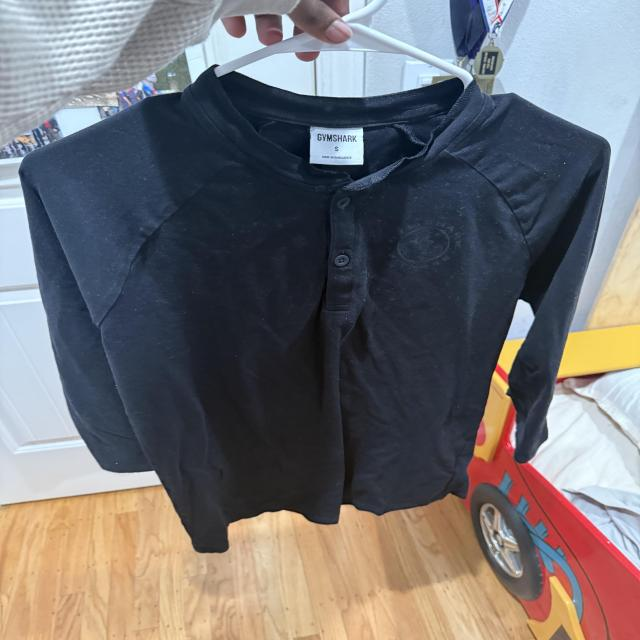back_tag: (310, 122, 364, 168)
